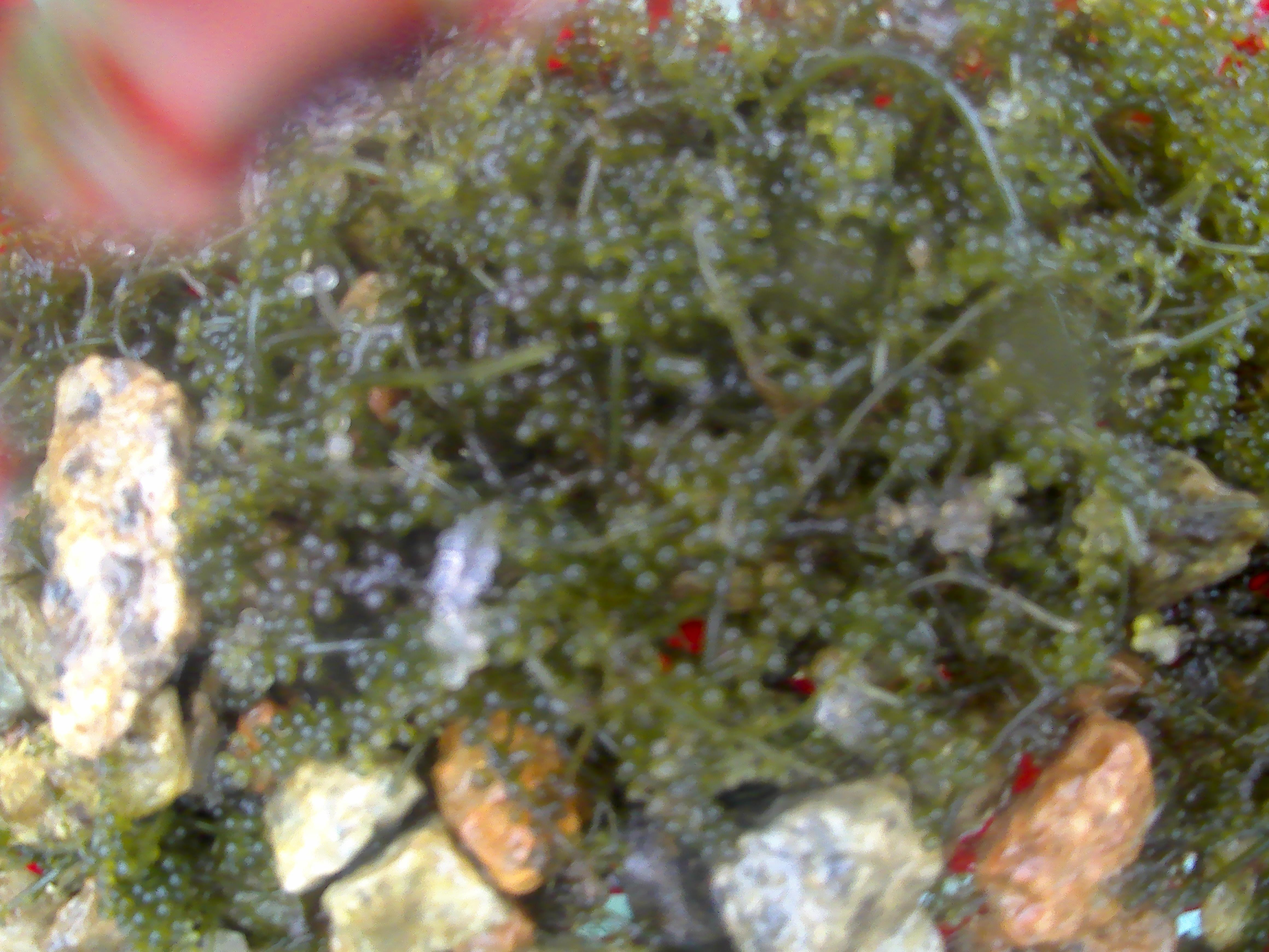Darkening: (366, 587, 392, 613), (299, 533, 325, 558), (741, 539, 766, 564), (323, 541, 348, 566), (538, 411, 563, 435), (691, 431, 712, 453), (722, 626, 741, 644), (759, 590, 778, 607), (945, 208, 961, 224)
Harvestable: (648, 754, 681, 783), (829, 127, 860, 156), (699, 684, 728, 715), (629, 697, 657, 729), (562, 561, 590, 589), (817, 196, 845, 224), (1008, 426, 1037, 453), (634, 568, 661, 596), (387, 509, 415, 536), (669, 293, 695, 322), (1022, 444, 1049, 471), (655, 543, 681, 571), (1057, 527, 1084, 553), (961, 169, 988, 195), (851, 156, 879, 181), (670, 659, 696, 685), (513, 422, 539, 448), (614, 758, 641, 783), (572, 645, 598, 670), (411, 493, 436, 518), (631, 665, 657, 689), (621, 550, 646, 574), (648, 312, 672, 337), (1170, 4, 1195, 28), (577, 297, 600, 323), (738, 679, 762, 703), (370, 727, 394, 750), (554, 431, 578, 454), (539, 486, 563, 509), (886, 639, 909, 663), (788, 615, 811, 638), (877, 433, 900, 456), (1105, 78, 1128, 101), (732, 240, 755, 263), (696, 523, 719, 546), (149, 922, 172, 945), (668, 778, 691, 800), (624, 782, 647, 804), (548, 298, 570, 321), (535, 572, 557, 595), (568, 410, 590, 433), (534, 130, 557, 152), (322, 382, 344, 405), (750, 217, 772, 239), (650, 736, 672, 758), (757, 617, 779, 639), (765, 652, 787, 674), (525, 150, 546, 173), (854, 195, 874, 219), (816, 620, 837, 642), (781, 371, 803, 392), (748, 518, 770, 539), (651, 277, 673, 298), (871, 604, 893, 625), (767, 321, 788, 343), (675, 323, 696, 344), (1102, 453, 1123, 474), (638, 643, 659, 664), (845, 226, 865, 248), (854, 600, 874, 622), (914, 198, 934, 220), (776, 569, 798, 589), (1158, 26, 1180, 46), (369, 703, 390, 723), (793, 214, 814, 234), (1129, 71, 1151, 90), (1142, 46, 1164, 65), (636, 534, 656, 554), (133, 907, 153, 927), (824, 597, 844, 617), (155, 901, 175, 920), (922, 833, 942, 852), (891, 723, 910, 742), (586, 581, 605, 600), (969, 148, 988, 167), (874, 202, 893, 221), (1115, 435, 1134, 454), (698, 559, 718, 577), (1180, 420, 1198, 439), (933, 434, 951, 453), (903, 419, 922, 437), (700, 843, 718, 862), (647, 659, 665, 677), (506, 240, 523, 259), (532, 693, 549, 711), (788, 586, 806, 603), (730, 217, 748, 234), (1238, 343, 1255, 360), (665, 818, 682, 835), (685, 456, 701, 474), (1207, 0, 1228, 13), (886, 418, 903, 434), (681, 831, 698, 847), (704, 450, 720, 467), (622, 732, 639, 748), (1191, 406, 1207, 422), (1207, 365, 1223, 381), (662, 599, 678, 615), (336, 351, 352, 366), (356, 675, 371, 690), (1208, 381, 1223, 395), (1223, 372, 1236, 384)
Whitening: (441, 664, 465, 691), (326, 435, 353, 458), (438, 528, 466, 549), (462, 631, 486, 655), (313, 266, 337, 289), (468, 565, 494, 585), (441, 548, 465, 569), (437, 568, 458, 591), (290, 274, 311, 295), (987, 89, 1008, 110), (478, 547, 496, 564), (1012, 103, 1030, 120), (433, 604, 447, 620), (444, 615, 458, 631)
